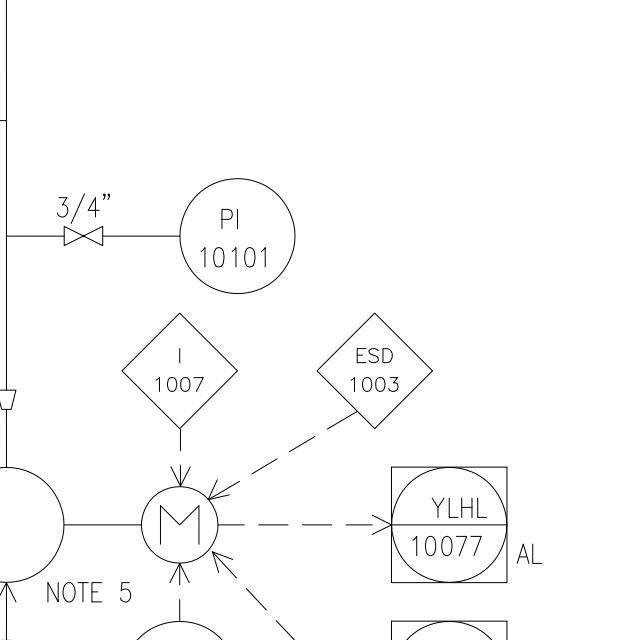GV: (59, 222, 107, 250)
M: (139, 486, 222, 564)
